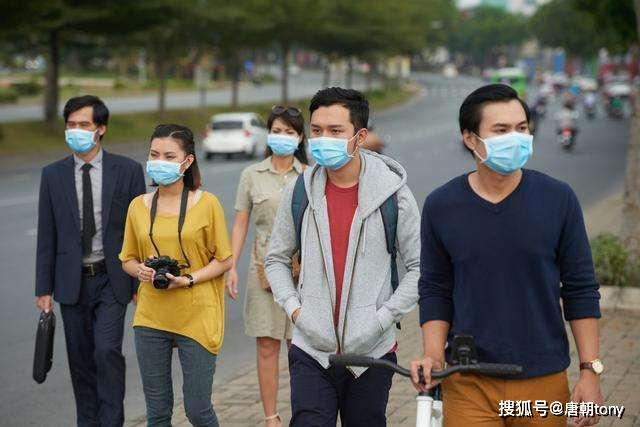mask: (479, 108, 537, 180), (313, 109, 357, 168), (144, 136, 190, 186), (62, 109, 102, 156), (266, 122, 300, 162)
